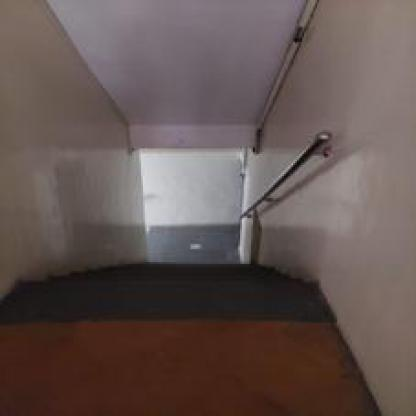stair_down: (88, 236, 242, 315)
